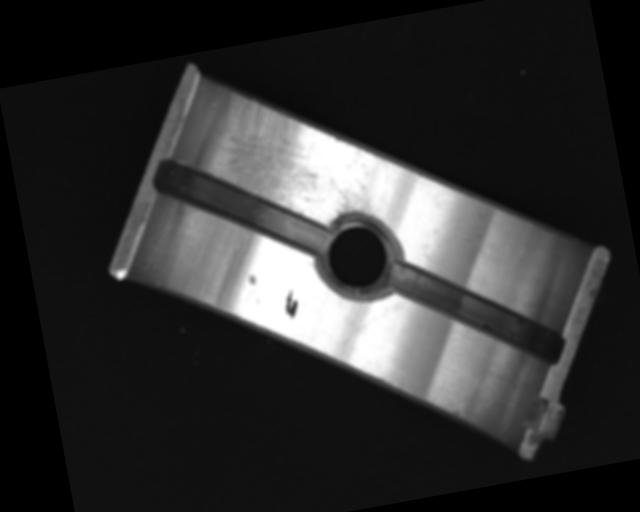blot: (281, 288, 301, 319)
bruise: (247, 273, 257, 286)
gap: (382, 236, 568, 390), (148, 134, 327, 277)
hole: (311, 209, 409, 304)
scratch: (204, 70, 379, 245)
